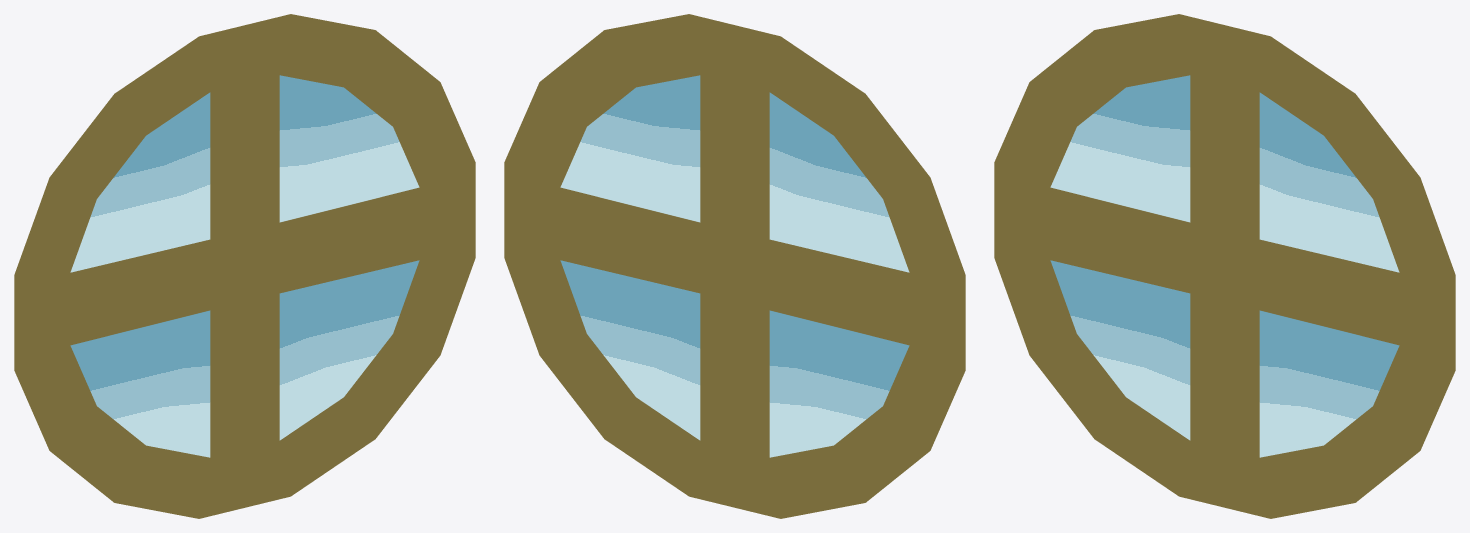
3 renders of one model, left to right at view 1: azimuth 30°, elevation 25°; view 2: azimuth 150°, elevation 25°; view 3: azimuth 330°, elevation 25°, orthographic.
Parts seen in each view (by area): view 1: 00_polygon0; view 2: 00_polygon0; view 3: 00_polygon0.
Boxes of the visible parts, left/top/right/bottom form: 00_polygon0: left=14, top=14, right=475, bottom=518; 00_polygon0: left=504, top=14, right=965, bottom=518; 00_polygon0: left=994, top=14, right=1455, bottom=518.
Size of the model in its own units: 0.572 by 0.572 by 0.
1 material, 1 textured.
